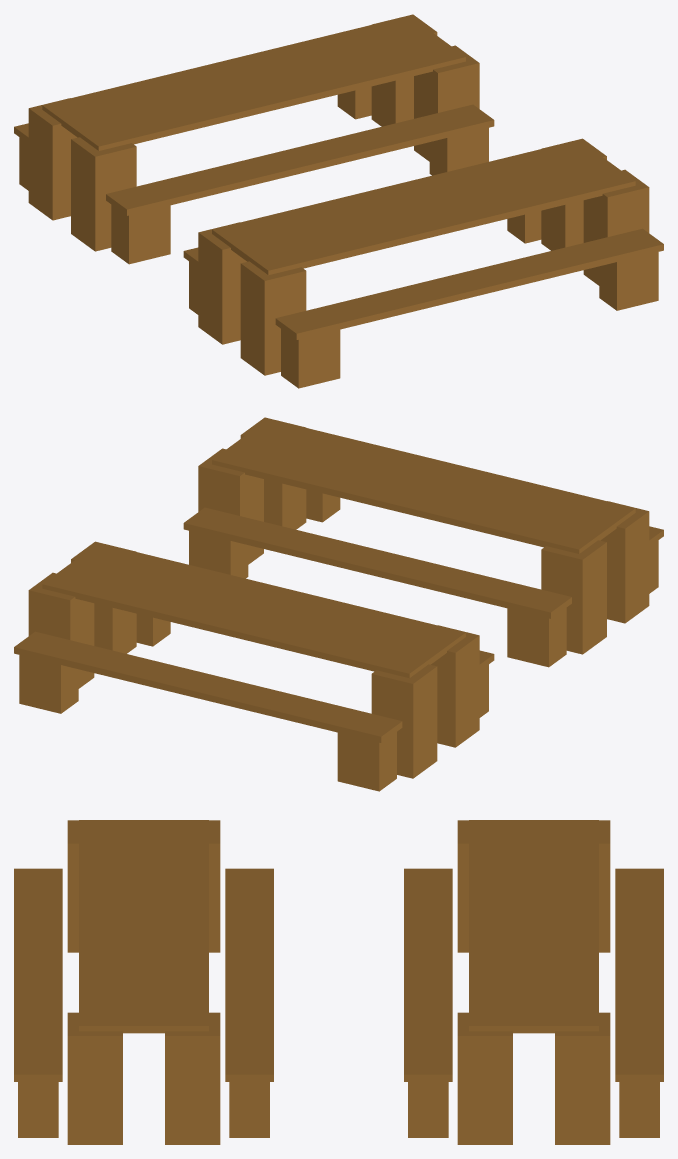
The model's file is SM_CocinaCampana_v3_Comedor_LOD1.fbx.
3 renders of one model, top to bottom at view 1: azimuth 30°, elevation 25°; view 2: azimuth 150°, elevation 25°; view 3: azimuth 270°, elevation 25°, orthographic. The views are drawn at different scales.
Visible parts, largest first — view 1: SM_vida_fuerte_v23_LOD1; view 2: SM_vida_fuerte_v23_LOD1; view 3: SM_vida_fuerte_v23_LOD1.
Boxes of the visible parts, left/top/right/bottom form: SM_vida_fuerte_v23_LOD1: left=14, top=14, right=663, bottom=388; SM_vida_fuerte_v23_LOD1: left=14, top=417, right=663, bottom=791; SM_vida_fuerte_v23_LOD1: left=14, top=820, right=663, bottom=1144.
Bounding box in the file's own units: 3.14 × 0.775 × 4.
